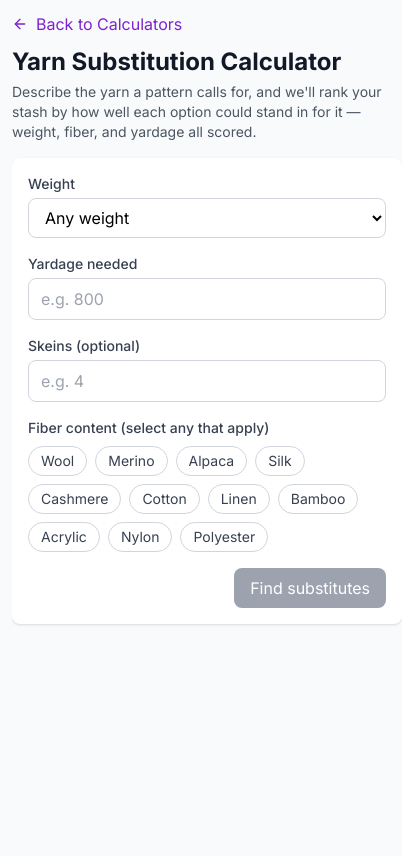
YarnSubstitutionCalculator › enables search after selecting a fiber chip
Click the button "wool" at (58, 461), box [28,446,87,476]
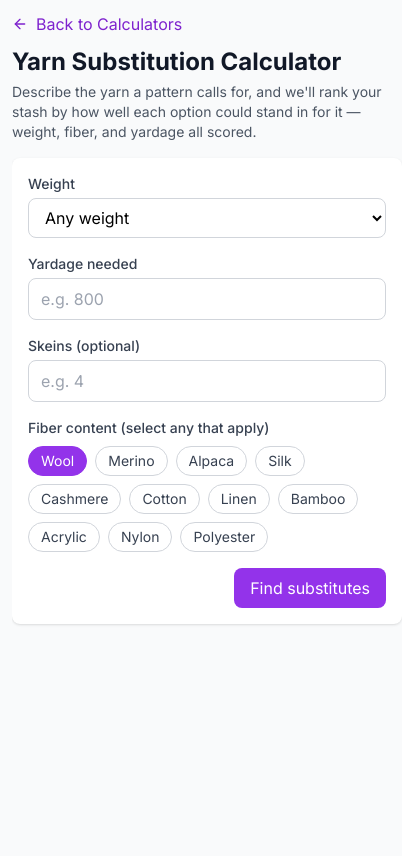
Check: the button "Find substitutes" is enabled, box [234,568,386,608]
